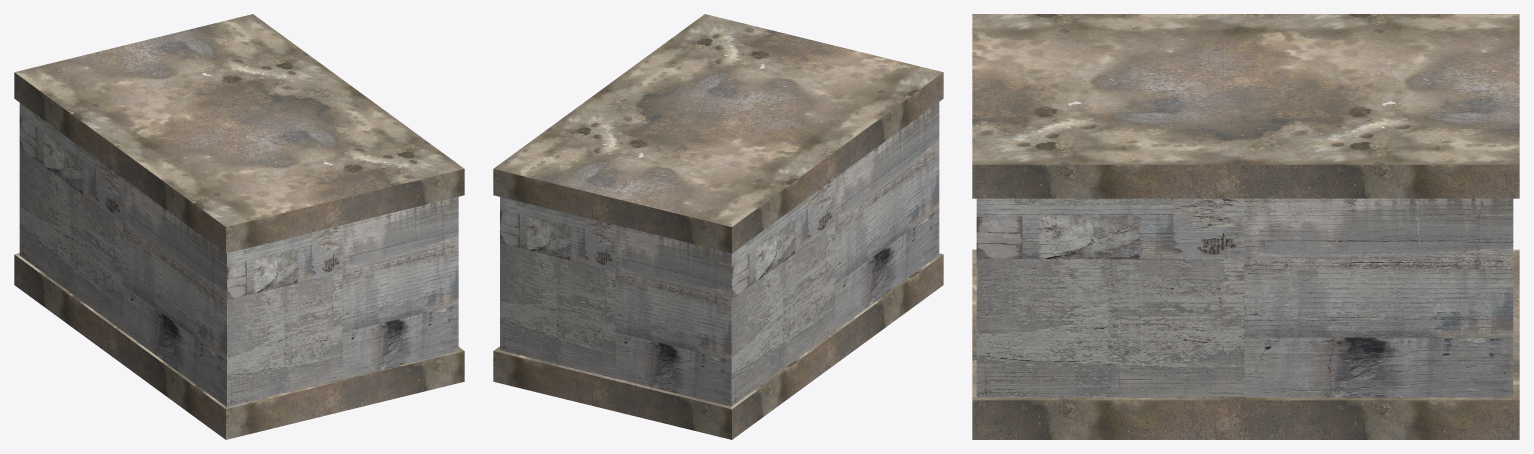
Rendered from room.obj.
The picture shows the model from 3 angles, left to right: view 1: azimuth 30°, elevation 25°; view 2: azimuth 150°, elevation 25°; view 3: azimuth 270°, elevation 25°; orthographic projection. The views are drawn at different scales.
Visible parts, largest first — view 1: Box002, Box004, Box001; view 2: Box002, Box004, Box001; view 3: Box002, Box004, Box001.
Boxes of the visible parts, x1,y1,x2,y2 form: Box002: (19, 103, 458, 407); Box004: (14, 14, 464, 253); Box001: (14, 253, 464, 439); Box002: (500, 102, 939, 406); Box004: (493, 14, 943, 253); Box001: (493, 253, 943, 439); Box002: (976, 198, 1513, 397); Box004: (972, 14, 1519, 198); Box001: (972, 249, 1519, 439).
Size of the model in its own units: 7.76 by 6.61 by 11.92.
Materials: 2 (2 with a texture image).
